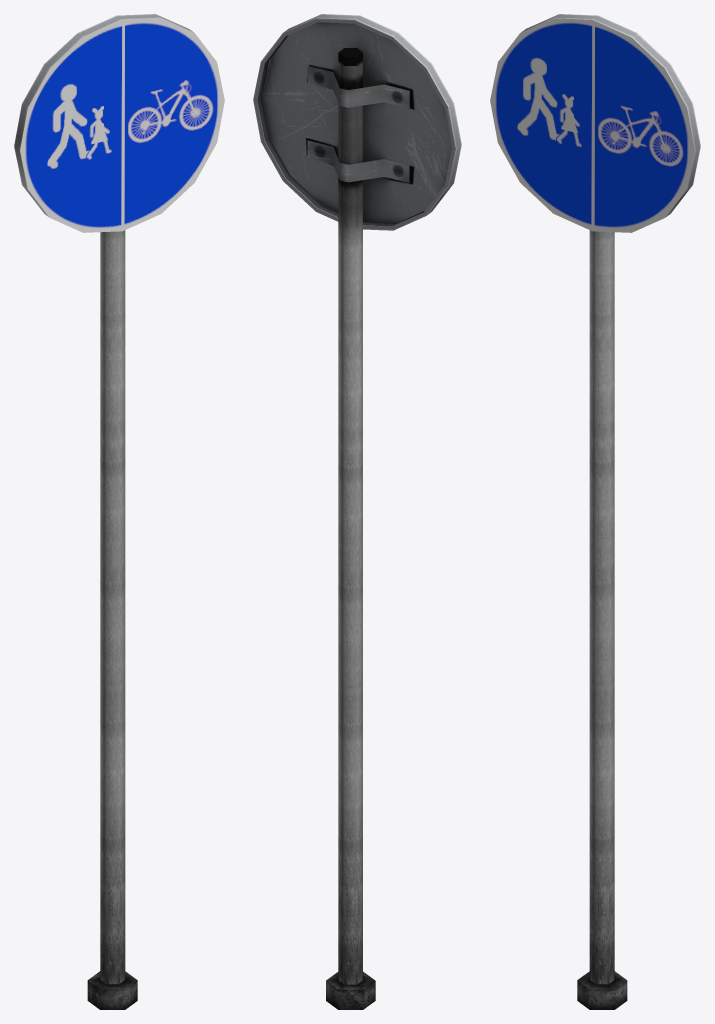
The model's file is Mandatory_SharedRoute.fbx.
3 views of the same model, side by side, from view 1: azimuth 30°, elevation 25°; view 2: azimuth 150°, elevation 25°; view 3: azimuth 330°, elevation 25° (orthographic).
Visible parts, largest first — view 1: Mandatory_SharedRoute_LOD0; view 2: Mandatory_SharedRoute_LOD0; view 3: Mandatory_SharedRoute_LOD0.
Part boxes in pixels (box(x1,y1,x2,y2)): Mandatory_SharedRoute_LOD0: box(14, 14, 224, 1009); Mandatory_SharedRoute_LOD0: box(253, 14, 461, 1009); Mandatory_SharedRoute_LOD0: box(490, 14, 700, 1009).
Size of what is drawn, in the model's own units: 0.6245 by 2.88 by 0.132.
